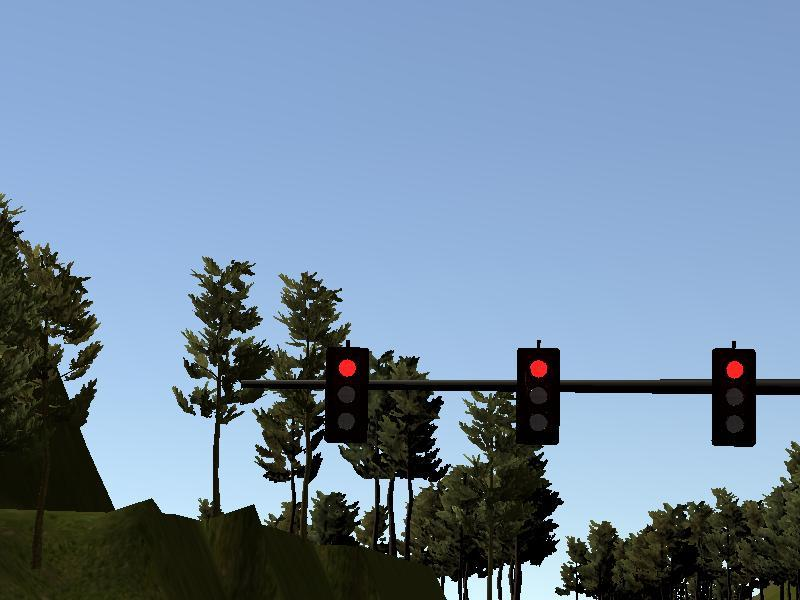Red: (714, 351, 752, 445), (520, 351, 559, 442), (328, 347, 365, 440)
